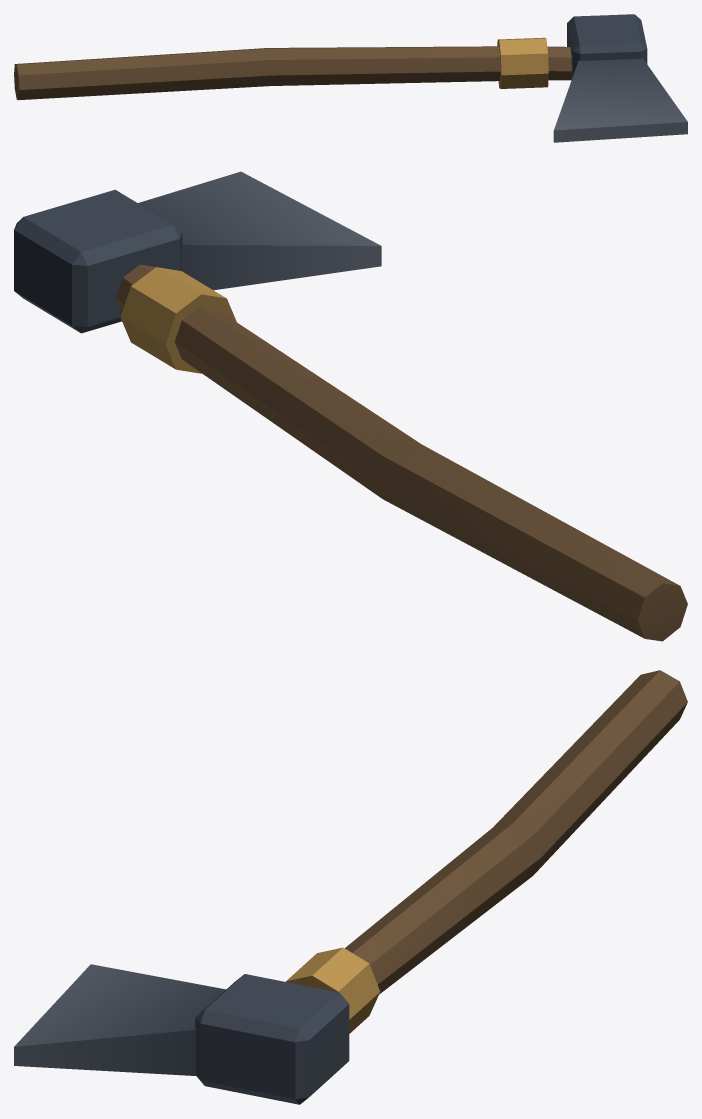
File: ph_item_axe_master.glb
3 renders of one model, top to bottom at view 1: azimuth 30°, elevation 25°; view 2: azimuth 150°, elevation 25°; view 3: azimuth 270°, elevation 25°, orthographic. The views are drawn at different scales.
Parts seen in each view (by area): view 1: ph_item_axe_master; view 2: ph_item_axe_master; view 3: ph_item_axe_master.
Boxes of the visible parts, x1,y1,x2,y2 form: ph_item_axe_master: (14,14,687,142); ph_item_axe_master: (14,171,687,641); ph_item_axe_master: (14,670,687,1104).
Bounding box in the file's own units: 0.3499 × 0.0356 × 0.257.
